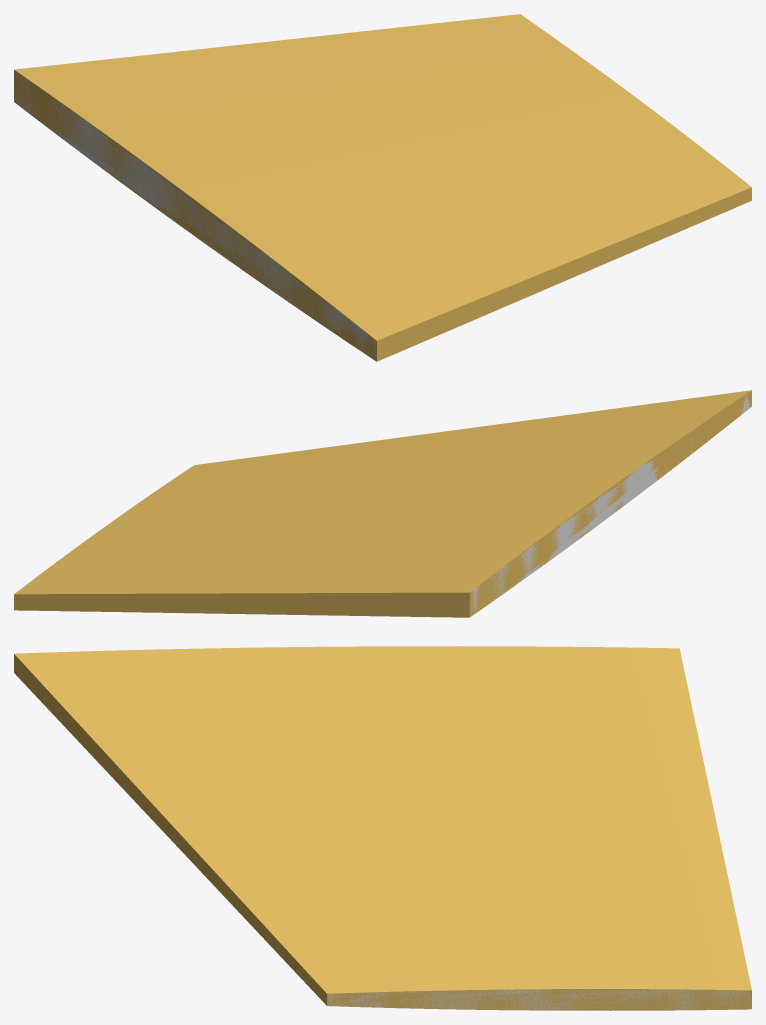
Rendered from fuel_wing_L.fbx.
3 renders of one model, top to bottom at view 1: azimuth 30°, elevation 25°; view 2: azimuth 150°, elevation 25°; view 3: azimuth 270°, elevation 25°, orthographic. The views are drawn at different scales.
Parts seen in each view (by area): view 1: fuel_wing_L, fuel_wing_L_colmesh0; view 2: fuel_wing_L, fuel_wing_L_colmesh0; view 3: fuel_wing_L, fuel_wing_L_colmesh0.
Part boxes in pixels (x1,y1,x2,y2): fuel_wing_L: (14, 14, 751, 361); fuel_wing_L_colmesh0: (14, 71, 376, 360); fuel_wing_L: (14, 390, 751, 617); fuel_wing_L_colmesh0: (470, 394, 750, 615); fuel_wing_L: (14, 646, 751, 1010); fuel_wing_L_colmesh0: (328, 989, 751, 1010).
Size of what is drawn, in the model's own units: 1.1 by 0.2527 by 1.4.
